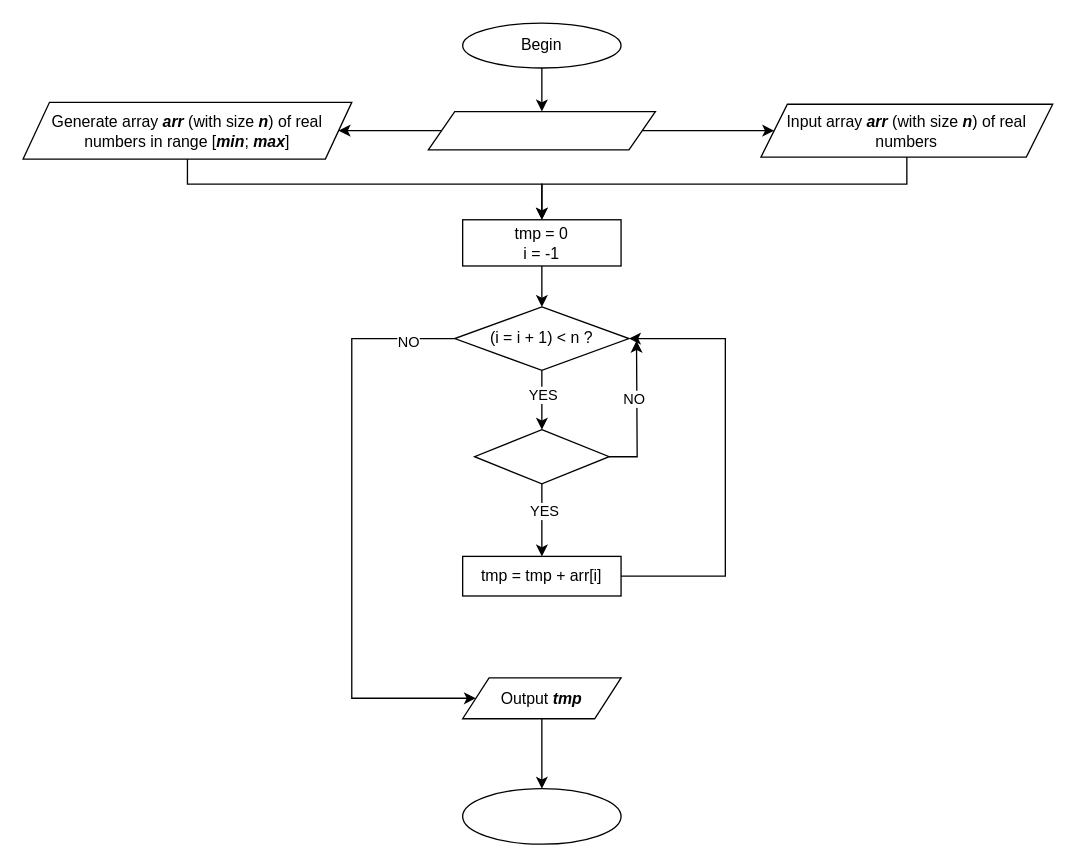
Image size: 1076x867. Some labels were removed from this diagram. The box of each missing label's shape, as (x1, y1, x2, y2) in pixels:
arr[i] > 0 ?: (473, 428, 609, 484)
End: (461, 787, 621, 844)
Input size n of array: (427, 110, 655, 150)
